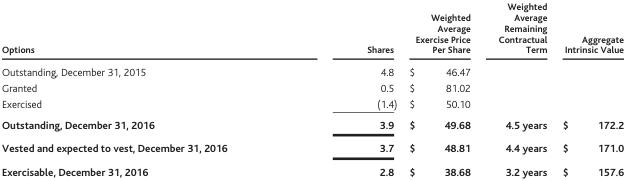table: (1, 0, 623, 177)
table column: (1, 0, 296, 177), (296, 0, 402, 177), (402, 0, 483, 177), (483, 0, 554, 177), (554, 0, 623, 177)
table column header: (1, 0, 623, 60)
table row: (1, 0, 623, 60), (1, 113, 623, 136), (1, 136, 623, 159), (1, 60, 623, 79), (1, 95, 623, 113), (1, 159, 623, 177), (1, 79, 623, 95)
